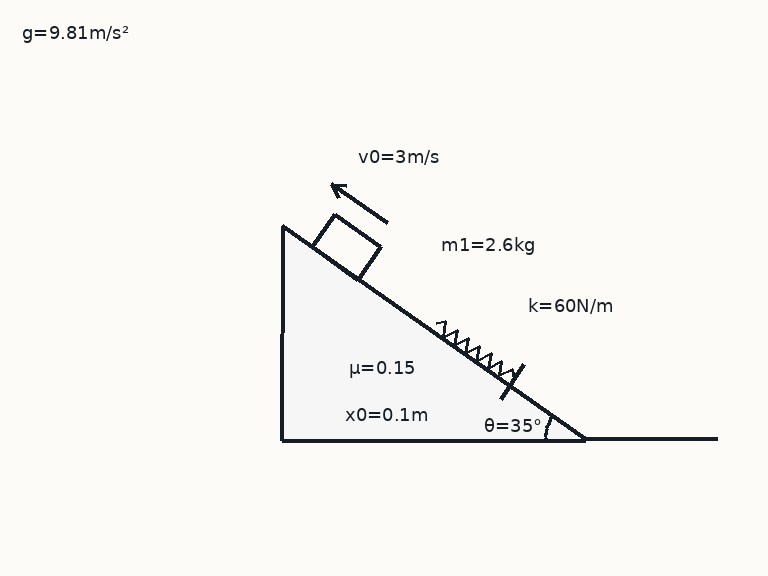block: (310, 212, 383, 282)
ramp: (280, 225, 587, 441)
spring: (434, 320, 516, 381)
